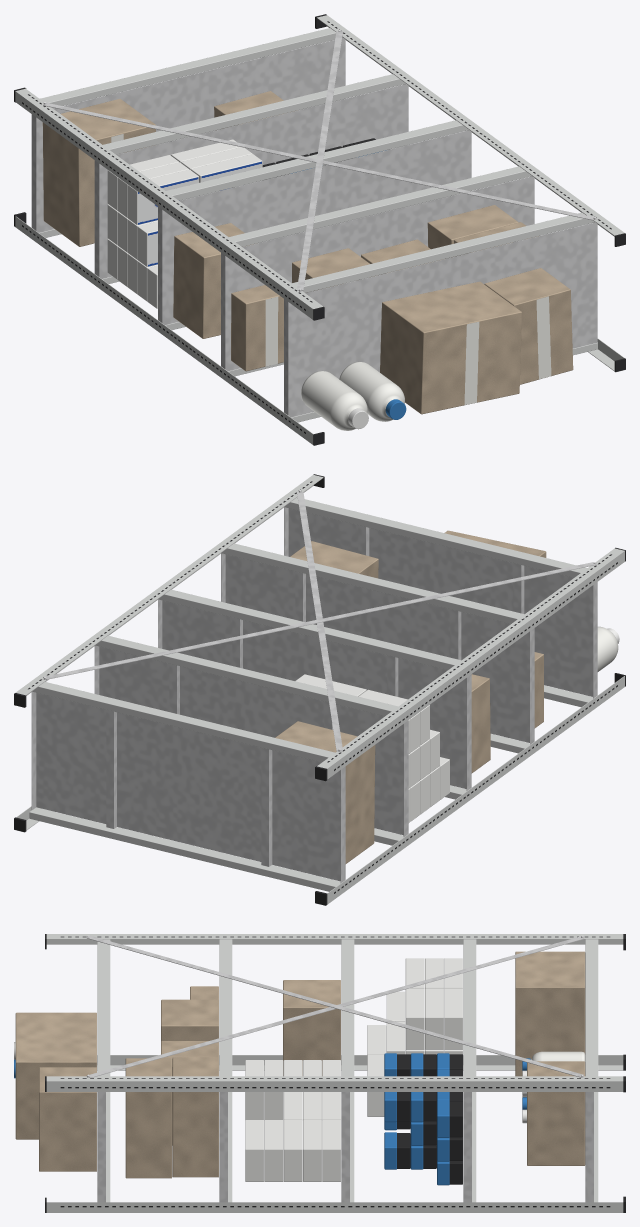
Rendered from AICOR_Lab__StorageRoom__ST01_R1.glb.
3 views of the same model, one above another, from view 1: azimuth 30°, elevation 25°; view 2: azimuth 150°, elevation 25°; view 3: azimuth 270°, elevation 25° (orthographic). The views are drawn at different scales.
Parts seen in each view (by area): view 1: /World/AICOR_Lab/StorageRoom/ST01_R1/Visual/Galvanized, /World/AICOR_Lab/StorageRoom/ST01_R1/Visual/Cardboard, /World/AICOR_Lab/StorageRoom/ST01_R1/Visual/PowderGrey, /World/AICOR_Lab/StorageRoom/ST01_R1/Visual/PaperWhite, /World/AICOR_Lab/StorageRoom/ST01_R1/Visual/HdpeNatural, /World/AICOR_Lab/StorageRoom/ST01_R1/Visual/PlasticBlack, /World/AICOR_Lab/StorageRoom/ST01_R1/Visual/Decal006; view 2: /World/AICOR_Lab/StorageRoom/ST01_R1/Visual/Galvanized, /World/AICOR_Lab/StorageRoom/ST01_R1/Visual/PowderGrey, /World/AICOR_Lab/StorageRoom/ST01_R1/Visual/Cardboard, /World/AICOR_Lab/StorageRoom/ST01_R1/Visual/PaperWhite, /World/AICOR_Lab/StorageRoom/ST01_R1/Visual/PlasticBlack, /World/AICOR_Lab/StorageRoom/ST01_R1/Visual/HdpeNatural; view 3: /World/AICOR_Lab/StorageRoom/ST01_R1/Visual/Cardboard, /World/AICOR_Lab/StorageRoom/ST01_R1/Visual/PowderGrey, /World/AICOR_Lab/StorageRoom/ST01_R1/Visual/PaperWhite, /World/AICOR_Lab/StorageRoom/ST01_R1/Visual/Galvanized, /World/AICOR_Lab/StorageRoom/ST01_R1/Visual/PlasticBlack, /World/AICOR_Lab/StorageRoom/ST01_R1/Visual/PlasticBlue, /World/AICOR_Lab/StorageRoom/ST01_R1/Visual/HdpeNatural.
Part boxes in pixels (left/top/right/bottom): /World/AICOR_Lab/StorageRoom/ST01_R1/Visual/Galvanized: left=31, top=31, right=597, bottom=417; /World/AICOR_Lab/StorageRoom/ST01_R1/Visual/Cardboard: left=42, top=91, right=573, bottom=414; /World/AICOR_Lab/StorageRoom/ST01_R1/Visual/PowderGrey: left=15, top=15, right=624, bottom=444; /World/AICOR_Lab/StorageRoom/ST01_R1/Visual/PaperWhite: left=107, top=139, right=262, bottom=308; /World/AICOR_Lab/StorageRoom/ST01_R1/Visual/HdpeNatural: left=111, top=134, right=551, bottom=430; /World/AICOR_Lab/StorageRoom/ST01_R1/Visual/PlasticBlack: left=14, top=14, right=625, bottom=445; /World/AICOR_Lab/StorageRoom/ST01_R1/Visual/Decal006: left=138, top=161, right=261, bottom=266; /World/AICOR_Lab/StorageRoom/ST01_R1/Visual/Galvanized: left=31, top=492, right=597, bottom=883; /World/AICOR_Lab/StorageRoom/ST01_R1/Visual/PowderGrey: left=15, top=475, right=624, bottom=904; /World/AICOR_Lab/StorageRoom/ST01_R1/Visual/Cardboard: left=275, top=530, right=546, bottom=863; /World/AICOR_Lab/StorageRoom/ST01_R1/Visual/PaperWhite: left=295, top=674, right=449, bottom=822; /World/AICOR_Lab/StorageRoom/ST01_R1/Visual/PlasticBlack: left=14, top=474, right=625, bottom=905; /World/AICOR_Lab/StorageRoom/ST01_R1/Visual/HdpeNatural: left=597, top=626, right=618, bottom=671; /World/AICOR_Lab/StorageRoom/ST01_R1/Visual/Cardboard: left=15, top=951, right=585, bottom=1178; /World/AICOR_Lab/StorageRoom/ST01_R1/Visual/PowderGrey: left=46, top=934, right=623, bottom=1212; /World/AICOR_Lab/StorageRoom/ST01_R1/Visual/PaperWhite: left=245, top=958, right=462, bottom=1181; /World/AICOR_Lab/StorageRoom/ST01_R1/Visual/Galvanized: left=87, top=935, right=593, bottom=1202; /World/AICOR_Lab/StorageRoom/ST01_R1/Visual/PlasticBlack: left=45, top=934, right=625, bottom=1212; /World/AICOR_Lab/StorageRoom/ST01_R1/Visual/PlasticBlue: left=14, top=1053, right=530, bottom=1185; /World/AICOR_Lab/StorageRoom/ST01_R1/Visual/HdpeNatural: left=530, top=1051, right=585, bottom=1061.
Size of the model in its own units: 1.2 by 0.5079 by 2.11.
23 materials, 16 textured.
